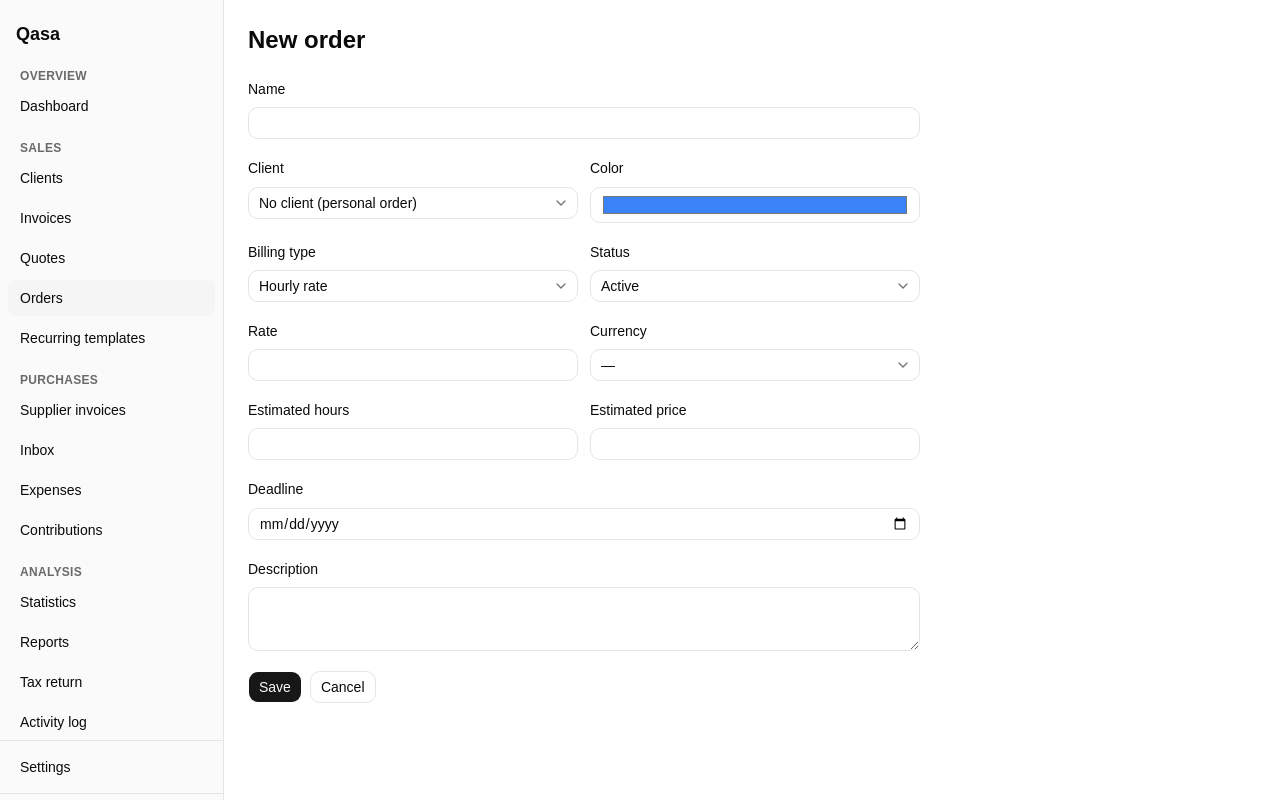
Test: order form › maps a 422 response onto the name field
This screenshot has width=1280, height=800.
Type "x" into the field labelled "Name". click: {"x": 584, "y": 123}
box: [248,107,920,139]
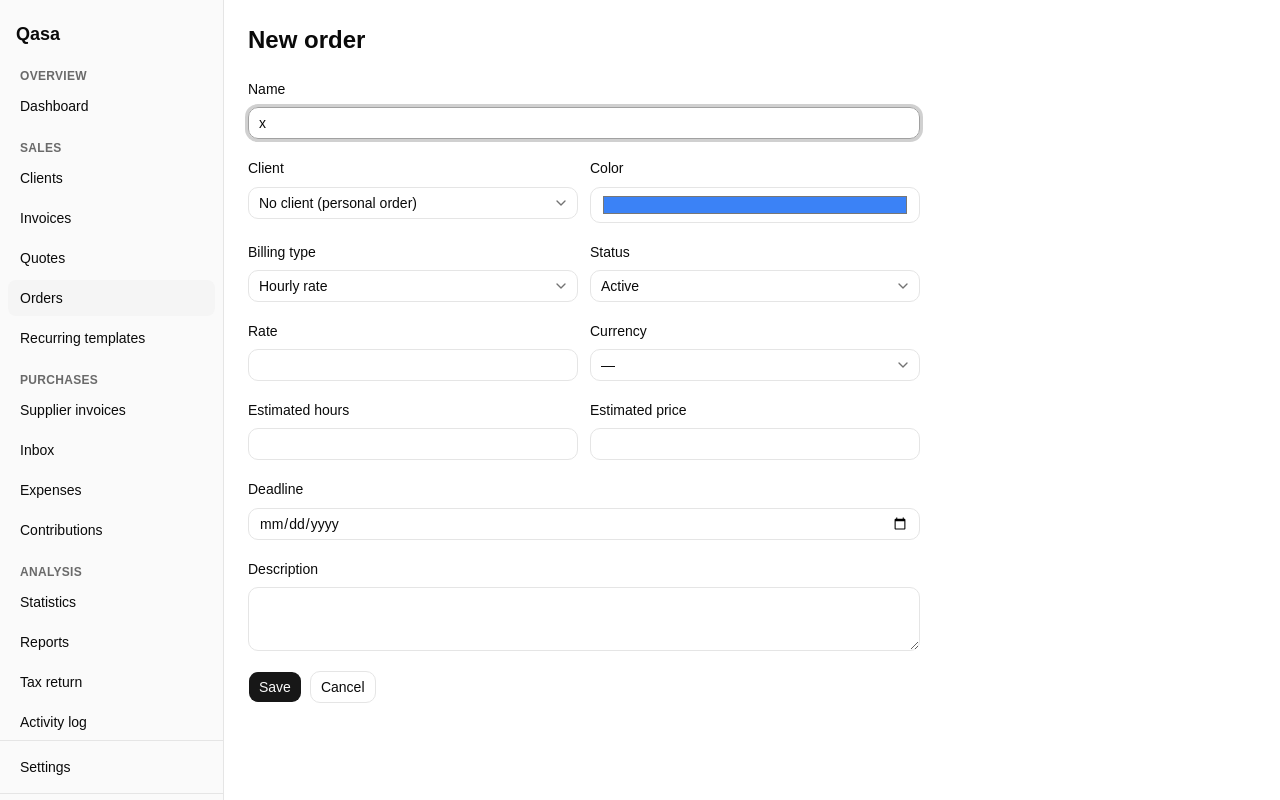
Click the button "Save". click: {"x": 275, "y": 687}
box: [248,671,302,703]
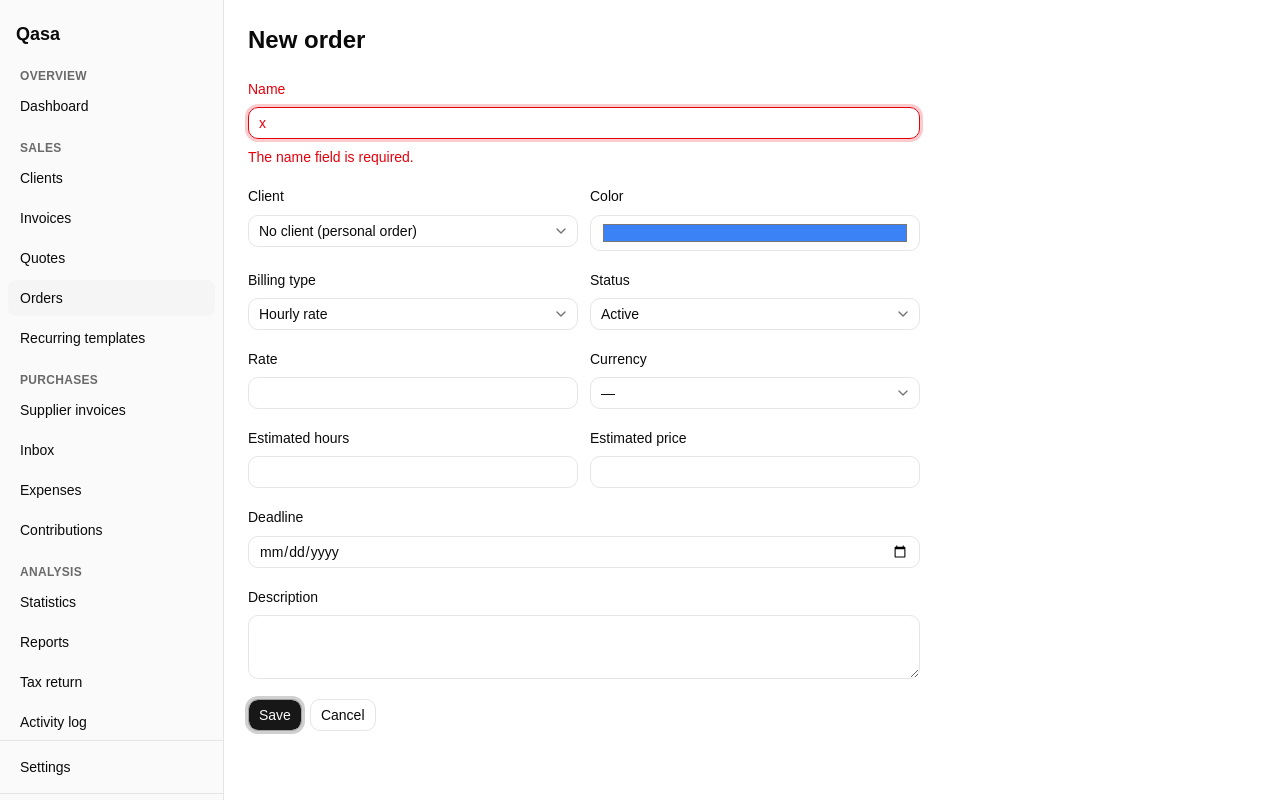
Check: the text "The name field is required." is shown, box [248,149,414,165]
